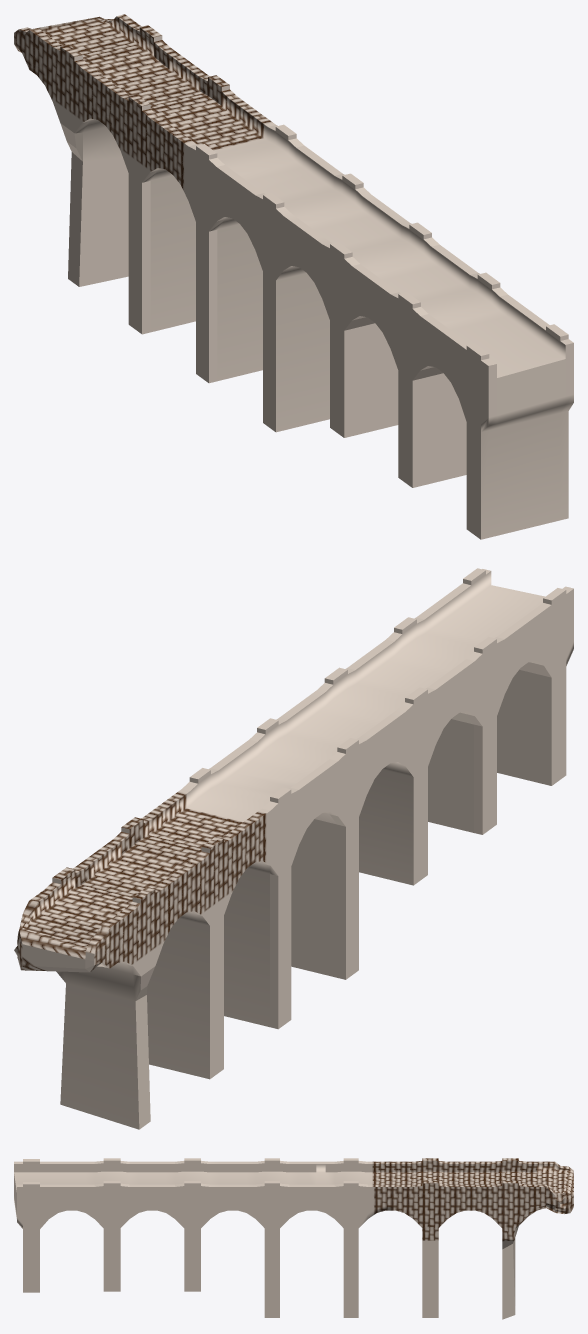
The model's file is bridge.fbx.
3 views of the same model, one above another, from view 1: azimuth 30°, elevation 25°; view 2: azimuth 150°, elevation 25°; view 3: azimuth 270°, elevation 25° (orthographic). The views are drawn at different scales.
Parts seen in each view (by area): view 1: pCube1; view 2: pCube1; view 3: pCube1.
Boxes of the visible parts, x1,y1,x2,y2 form: pCube1: [14, 14, 573, 539]; pCube1: [14, 568, 573, 1129]; pCube1: [14, 1158, 573, 1319].
Bounding box in the file's own units: 35.64 × 89.71 × 331.
